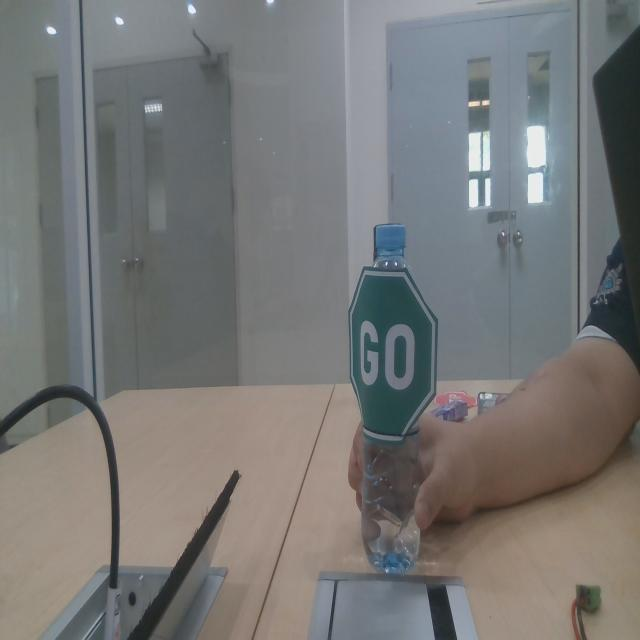Go: (345, 261, 440, 453)
